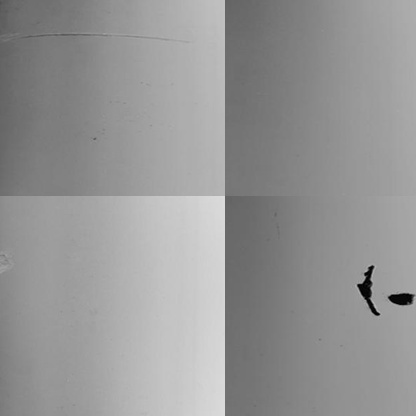kongdong: (355, 261, 382, 319), (386, 288, 416, 307)
